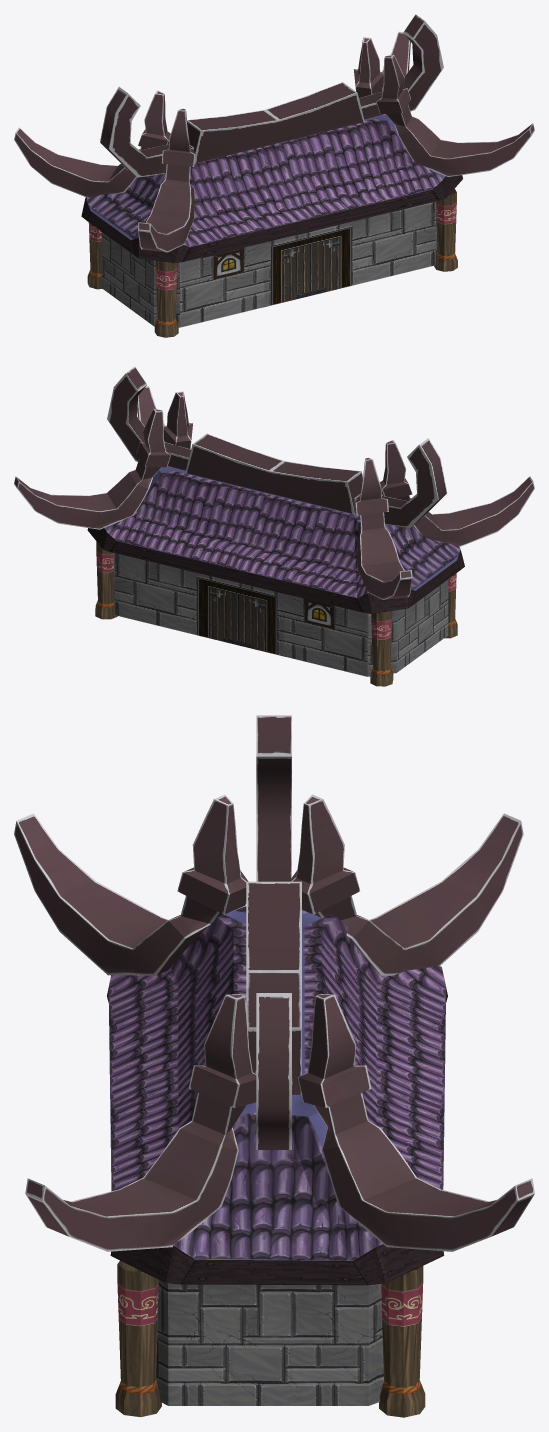
Rendered from Chinese_House.fbx.
3 renders of one model, top to bottom at view 1: azimuth 30°, elevation 25°; view 2: azimuth 150°, elevation 25°; view 3: azimuth 270°, elevation 25°, orthographic. The views are drawn at different scales.
Visible parts, largest first — view 1: roof_house, walls_1, roof_ornament2, nround (×2), nround1, nround2, pillar5, pillar6, pillar8; view 2: roof_house, walls_1, roof_ornament2, nround (×2), nround2, nround1, pillar8, pillar7, pillar5; view 3: roof_house, nround (×2), walls_1, nround2, roof_ornament2, nround1, pillar6, pillar7.
Boxes of the visible parts, x1,y1,x2,y2 form: roof_house: [81, 114, 462, 263]; walls_1: [101, 201, 437, 327]; roof_ornament2: [100, 14, 443, 177]; nround (×2): [14, 54, 534, 198]; nround1: [138, 108, 195, 252]; nround2: [353, 31, 410, 97]; pillar5: [154, 260, 178, 337]; pillar6: [434, 189, 457, 271]; pillar8: [87, 222, 102, 289]; roof_house: [87, 466, 464, 613]; walls_1: [113, 553, 448, 676]; roof_ornament2: [107, 366, 446, 527]; nround (×2): [137, 386, 412, 599]; nround2: [14, 408, 170, 529]; nround1: [380, 439, 534, 546]; pillar8: [370, 611, 393, 686]; pillar7: [95, 541, 117, 619]; pillar5: [444, 573, 457, 638]; roof_house: [107, 906, 447, 1285]; nround (×2): [25, 794, 523, 1251]; walls_1: [140, 1271, 383, 1405]; nround2: [297, 994, 534, 1251]; roof_ornament2: [246, 715, 301, 1149]; nround1: [14, 794, 248, 975]; pillar6: [115, 1260, 161, 1417]; pillar7: [379, 1266, 425, 1417].
Size of the model in its own units: 707 by 373 by 416.
Materials: 1 (1 with a texture image).
